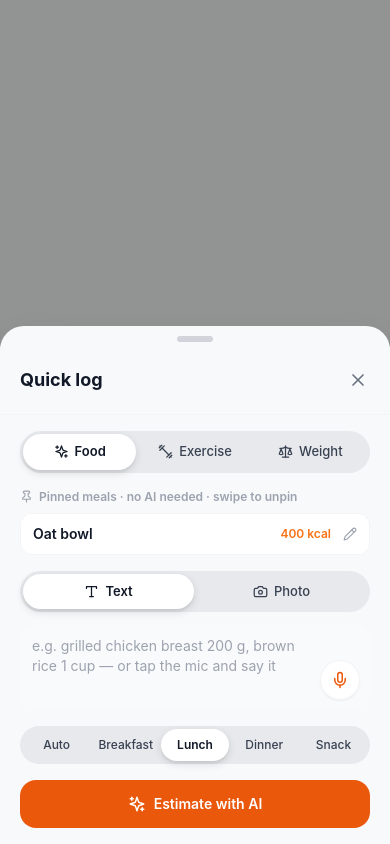
LogModal editing a pin › cancel leaves the pin unchanged
Click the button named "Edit Oat bowl" at (350,534), box 331,516 -> 369,550
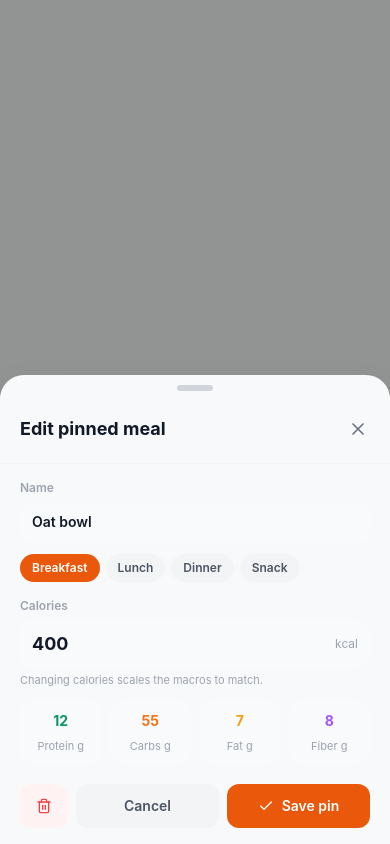
Click the button "Cancel" at (148,806), box 76,784 -> 219,828
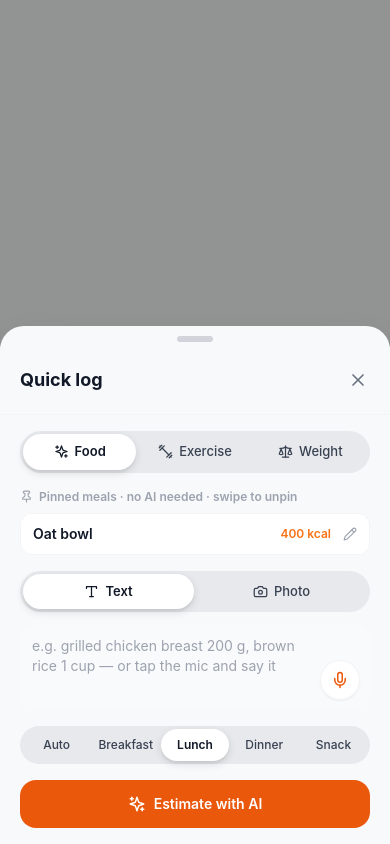
Result: the text "Oat bowl" is shown at 33,524 -> 93,542
